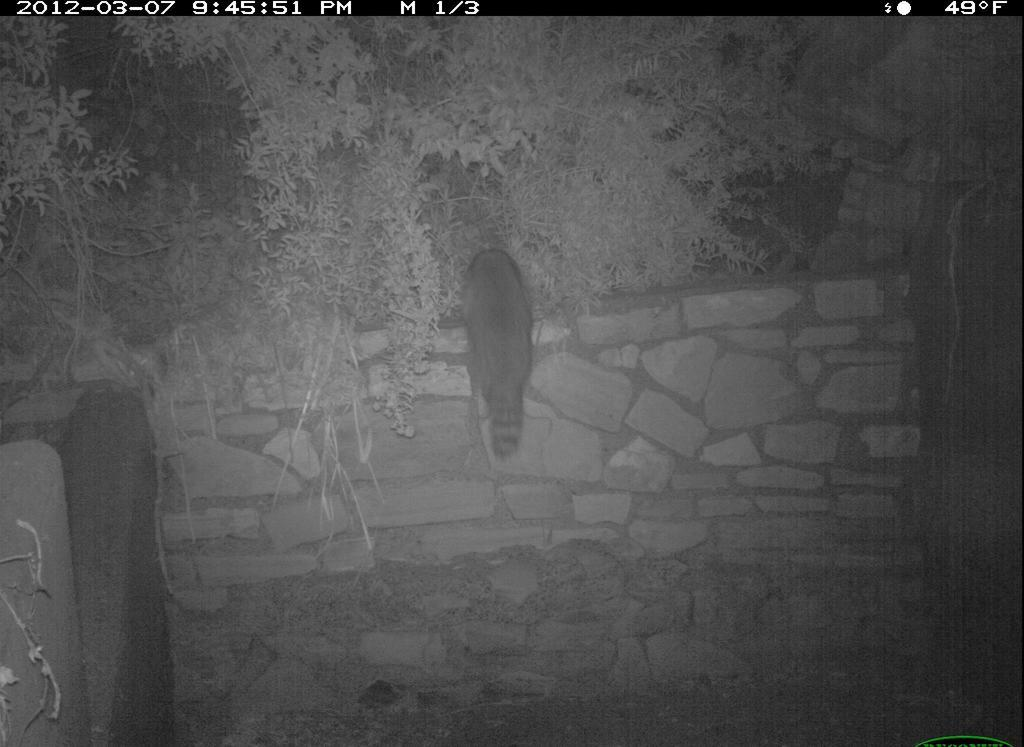raccoon: (451, 230, 548, 472)
